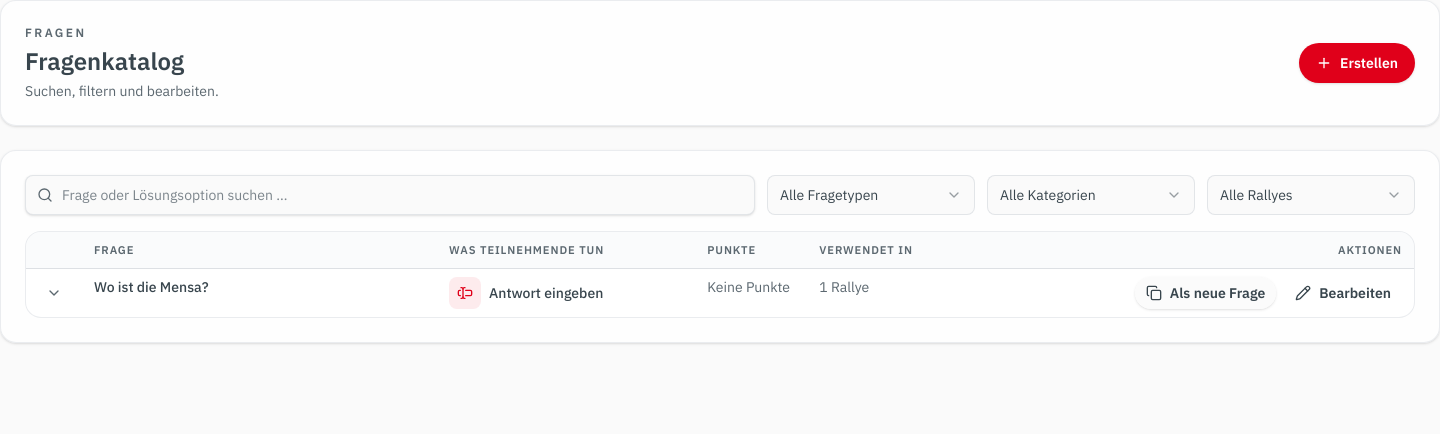
Scenario: QuestionsManagement › resets active filters and visible controls from an empty search result
Type "Unbekannt" into the search field at (390, 195), box [25,175,755,215]
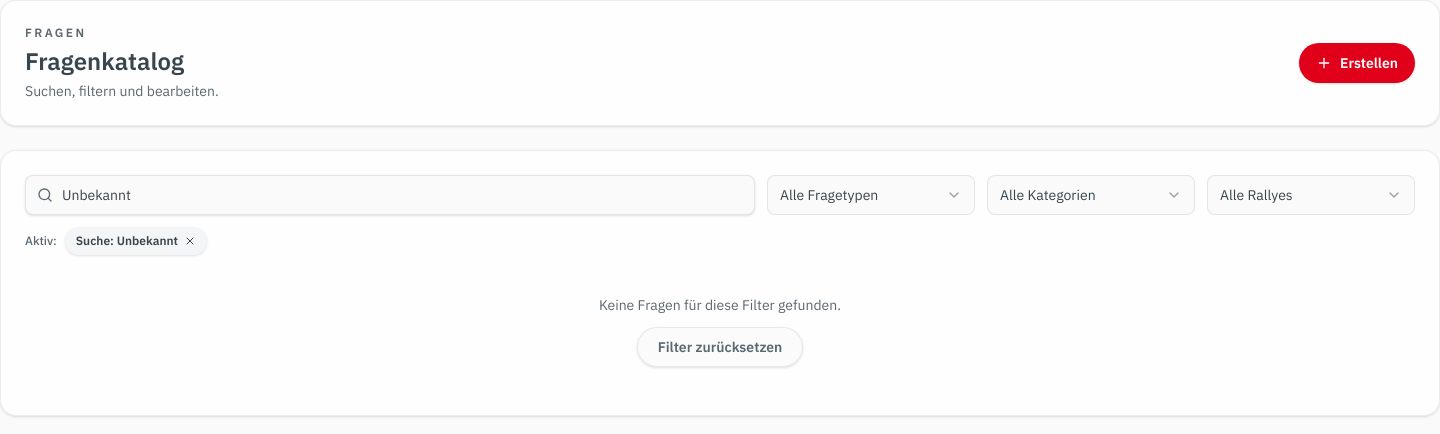
Expected: the text "Keine Fragen für diese Filter gefunden." is shown, [599,295,841,315]
Click the button "Filter zurücksetzen" at (720, 347), box [637,327,803,367]
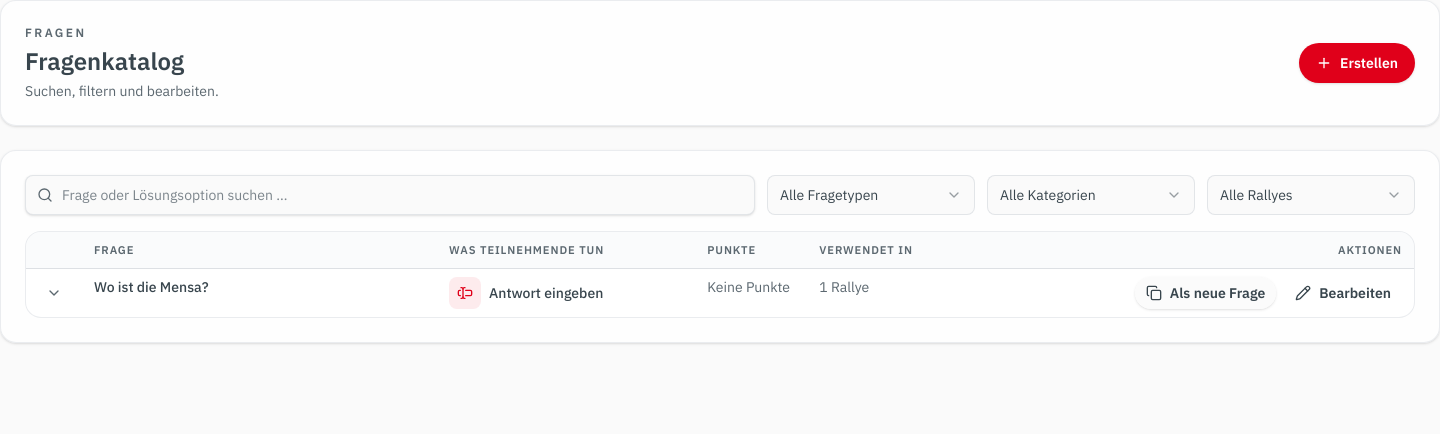
Expected: the text "Wo ist die Mensa?" is shown, [94,278,209,296]
Expected: the search field is empty, [25,175,755,215]
